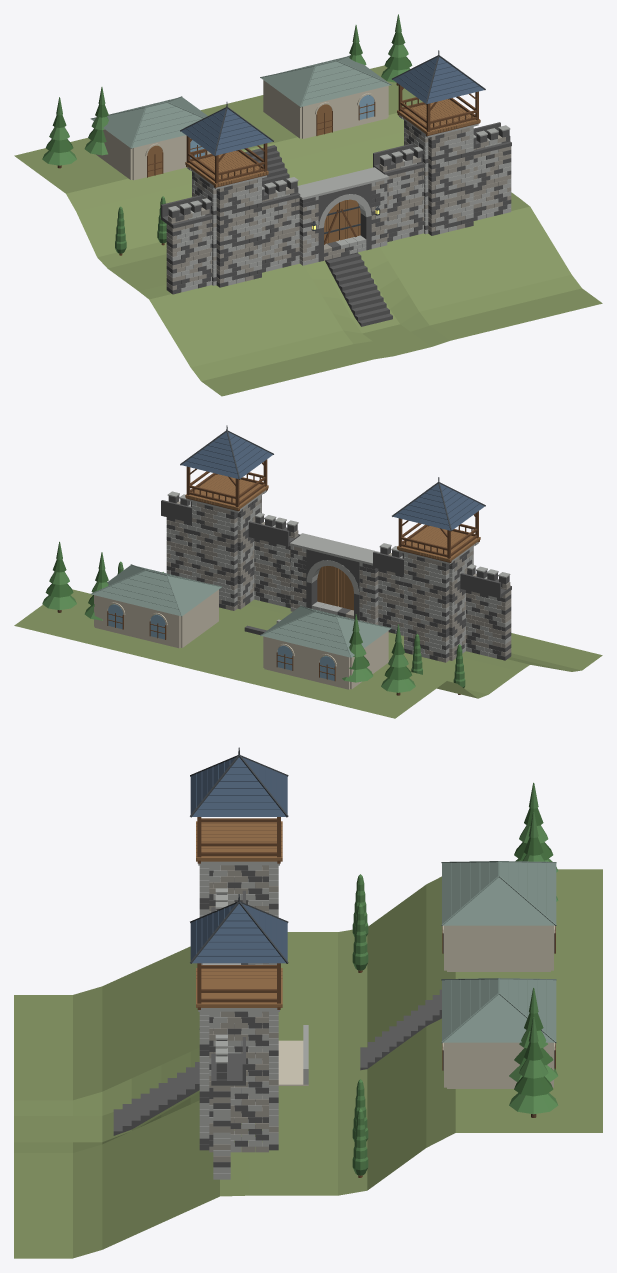
The model's file is A_assembly.glb.
3 renders of one model, top to bottom at view 1: azimuth 30°, elevation 25°; view 2: azimuth 150°, elevation 25°; view 3: azimuth 270°, elevation 25°, orthographic. The views are drawn at different scales.
Parts seen in each view (by area): view 1: Terrain sculptable terraced hillside, Complete gate arch surround, Villa low hip roof.001, Villa low hip roof, Fort wall block bay, Stone stairs full story, Fort wall block bay.005, Fort wall block bay.002, Complete watchtower hip roof.001, Complete watchtower hip roof, Fort wall block bay.003, Complete lookout frame (+25 smaller); view 2: Terrain sculptable terraced hillside, Complete gate arch surround, Villa low hip roof.001, Villa low hip roof, Fort wall block bay, Complete watchtower hip roof.001, Complete watchtower hip roof, Complete lookout frame.001, Complete lookout frame, Fort wall block bay.003, Tower masonry base.005, Tower masonry base.002 (+25 smaller); view 3: Terrain sculptable terraced hillside, Villa low hip roof, Villa low hip roof.001, Complete watchtower hip roof.001, Complete watchtower hip roof, Complete lookout frame, Complete lookout frame.001, Tower masonry base.005, Tower masonry base.002, Tower masonry base.003, Tower masonry base.004, Stone stairs full story (+13 smaller).
Boxes of the visible parts, bbox=[...] form: Terrain sculptable terraced hillside: bbox=[14, 65, 602, 396]; Complete gate arch surround: bbox=[297, 167, 389, 265]; Villa low hip roof.001: bbox=[260, 55, 391, 107]; Villa low hip roof: bbox=[90, 96, 207, 148]; Fort wall block bay: bbox=[166, 219, 211, 294]; Stone stairs full story: bbox=[325, 252, 392, 326]; Fort wall block bay.005: bbox=[473, 146, 511, 220]; Fort wall block bay.002: bbox=[262, 198, 299, 272]; Complete watchtower hip roof.001: bbox=[392, 50, 485, 104]; Complete watchtower hip roof: bbox=[180, 102, 273, 156]; Fort wall block bay.003: bbox=[387, 167, 423, 241]; Complete lookout frame: bbox=[185, 136, 268, 187]; Terrain sculptable terraced hillside: bbox=[14, 589, 602, 718]; Complete gate arch surround: bbox=[290, 533, 380, 624]; Villa low hip roof.001: bbox=[91, 564, 222, 616]; Villa low hip roof: bbox=[260, 605, 391, 657]; Fort wall block bay: bbox=[466, 590, 511, 660]; Complete watchtower hip roof.001: bbox=[180, 425, 273, 479]; Complete watchtower hip roof: bbox=[392, 477, 485, 531]; Complete lookout frame.001: bbox=[185, 459, 268, 511]; Complete lookout frame: bbox=[397, 511, 480, 562]; Fort wall block bay.003: bbox=[254, 538, 290, 608]; Tower masonry base.005: bbox=[192, 495, 261, 544]; Tower masonry base.002: bbox=[404, 547, 473, 596]; Terrain sculptable terraced hillside: bbox=[14, 869, 602, 1258]; Villa low hip roof: bbox=[441, 861, 556, 926]; Villa low hip roof.001: bbox=[441, 978, 556, 1043]; Complete watchtower hip roof.001: bbox=[190, 894, 288, 963]; Complete watchtower hip roof: bbox=[190, 747, 288, 817]; Complete lookout frame: bbox=[196, 817, 282, 863]; Complete lookout frame.001: bbox=[196, 963, 282, 1009]; Tower masonry base.005: bbox=[199, 1011, 278, 1058]; Tower masonry base.002: bbox=[199, 865, 278, 911]; Tower masonry base.003: bbox=[199, 1076, 278, 1152]; Tower masonry base.004: bbox=[199, 1029, 278, 1105]; Stone stairs full story: bbox=[113, 1062, 199, 1135].
Size of the model in its own units: 36 by 19.63 by 34.
